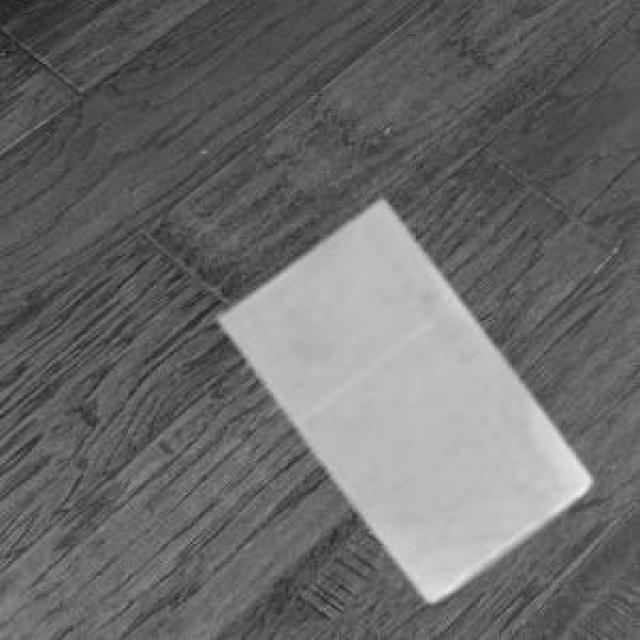paper: (216, 198, 587, 597)
